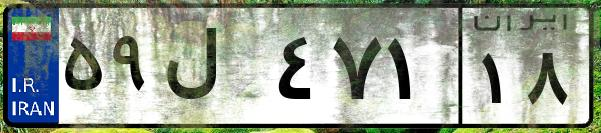1: (385, 28, 445, 110), (475, 38, 525, 113)
4: (270, 28, 330, 110)
5: (57, 26, 110, 100)
7: (330, 28, 385, 110)
8: (525, 38, 570, 115)
9: (110, 28, 158, 98)
ل: (158, 20, 270, 120)
